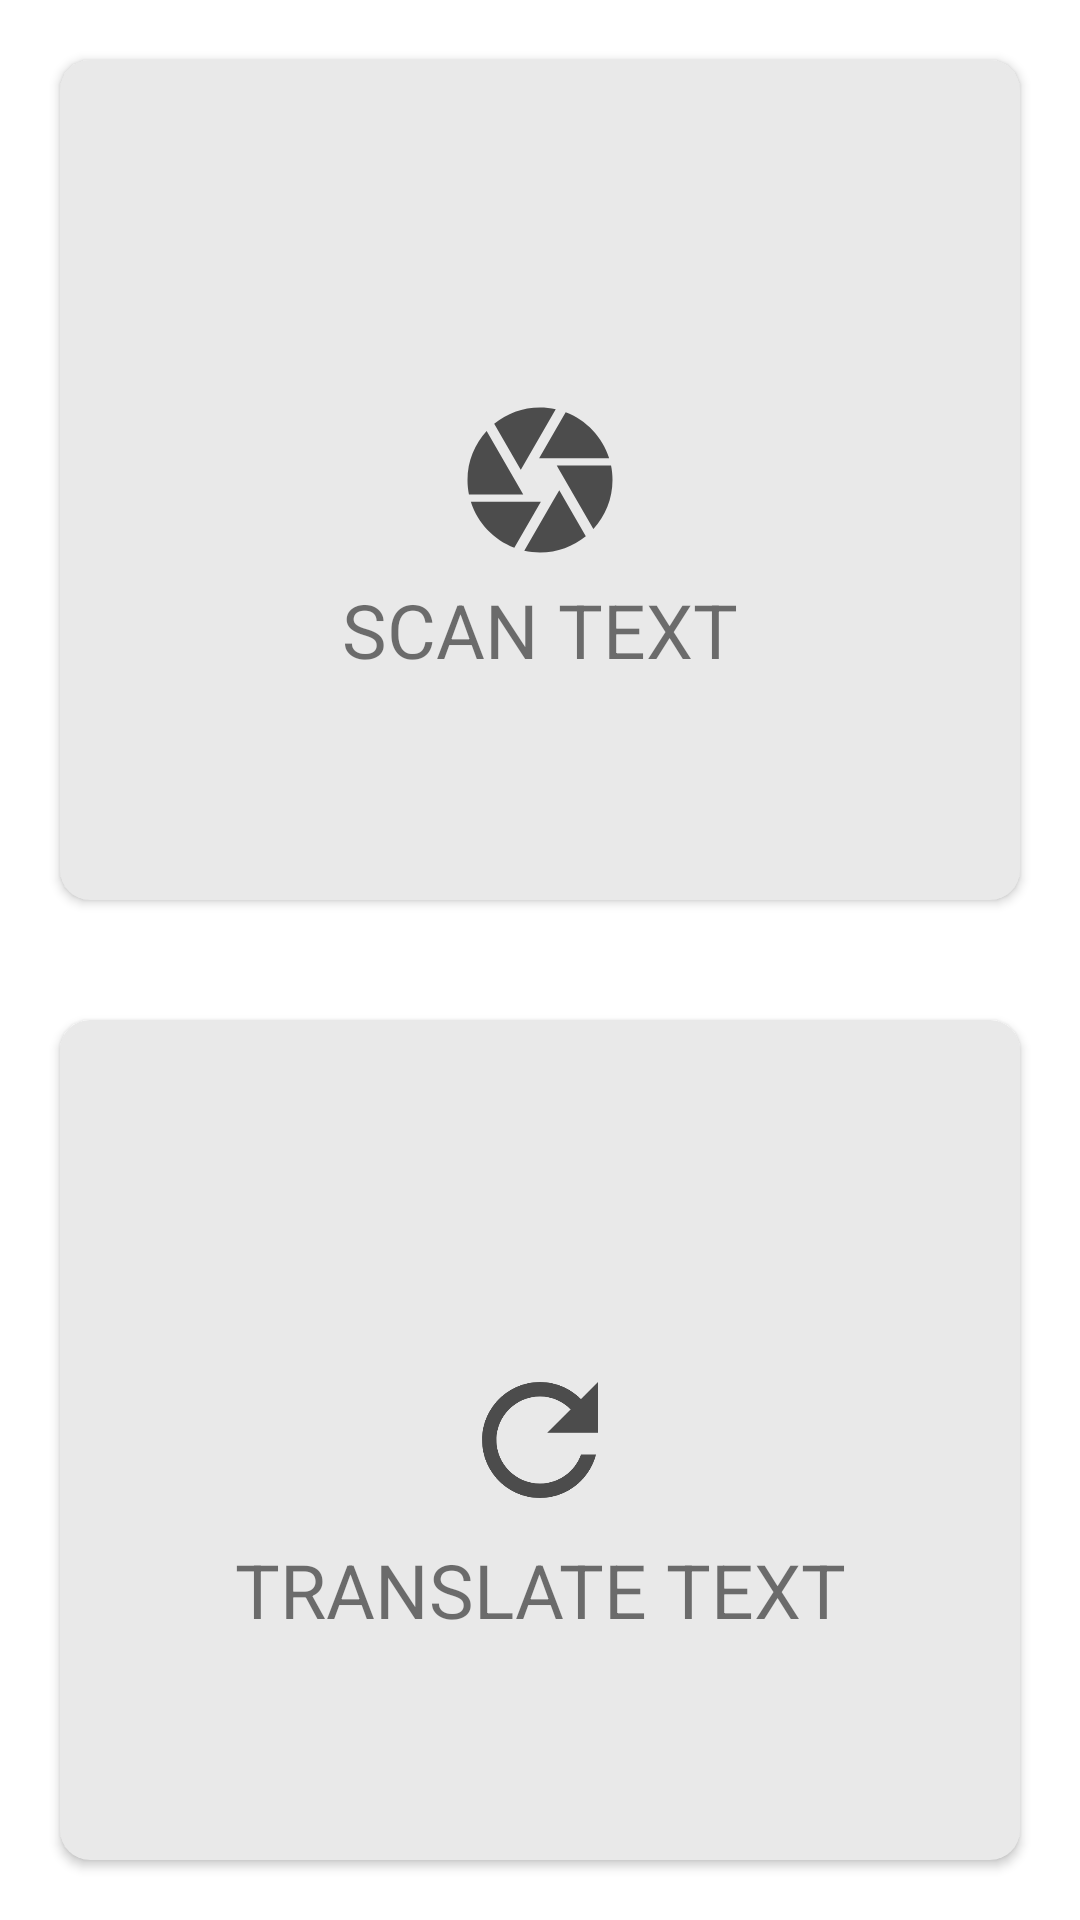

Icons on this 1080*1920 Android screen, each with its box as [x1=x1, y1=y1, x2=x2, y2=y2]:
camera: [x1=467, y1=407, x2=613, y2=553]
refresh: [x1=482, y1=1382, x2=598, y2=1498]
